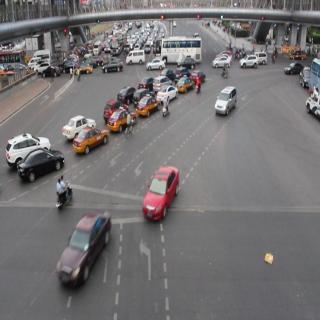BigCar: (161, 34, 204, 72)
Car: (58, 200, 115, 290), (130, 157, 184, 225), (0, 128, 56, 170), (14, 145, 63, 190), (67, 115, 106, 153), (57, 108, 96, 136), (211, 80, 242, 114), (158, 79, 181, 114), (100, 98, 131, 121), (100, 53, 126, 79), (105, 108, 135, 130), (136, 94, 162, 118), (279, 56, 301, 80), (113, 86, 138, 107), (42, 59, 64, 80), (208, 50, 231, 70), (125, 50, 146, 68), (145, 56, 167, 73), (137, 76, 156, 95), (250, 47, 266, 69), (177, 74, 191, 98), (290, 49, 306, 68), (158, 63, 174, 81), (73, 62, 90, 78), (172, 60, 186, 79), (240, 50, 254, 68), (189, 68, 206, 82)
